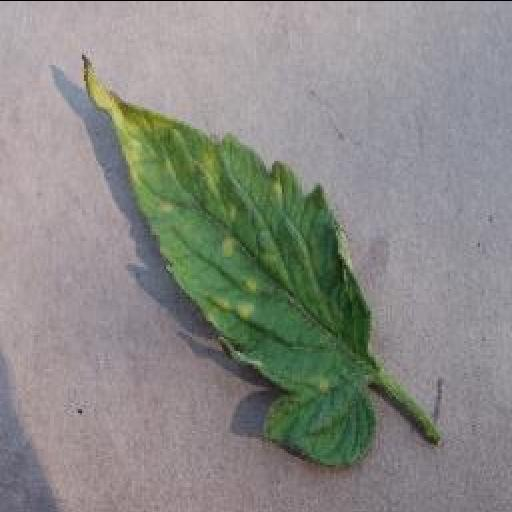disease_tomato: (79, 53, 377, 469)
